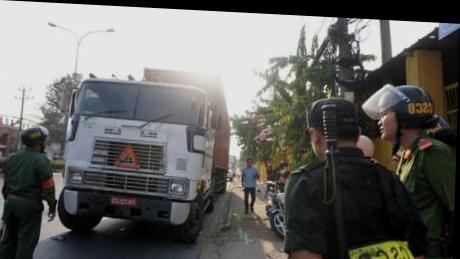License_Plate: (108, 195, 137, 207)
